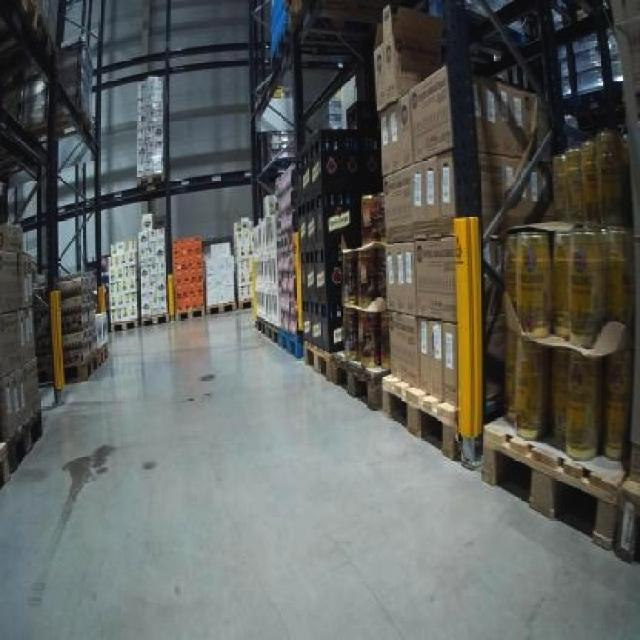floor: (0, 309, 637, 637)
